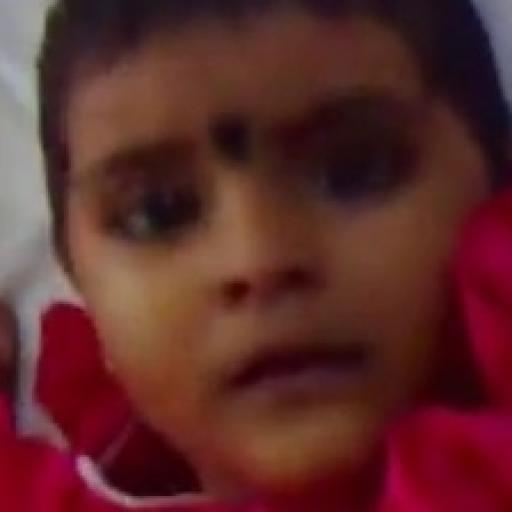Autism: (56, 12, 512, 510)
